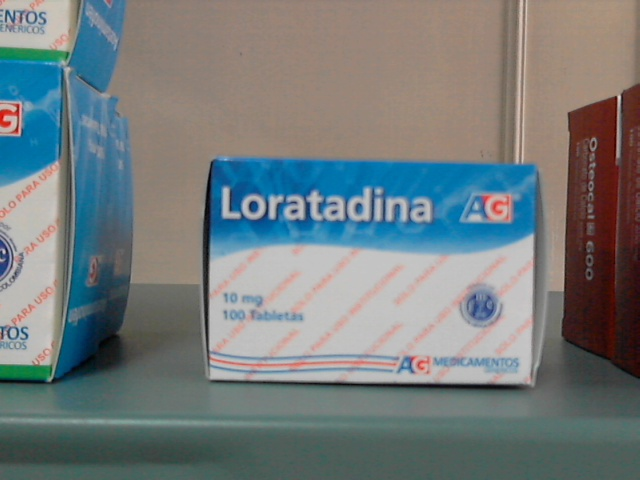AG: (211, 161, 530, 386)
